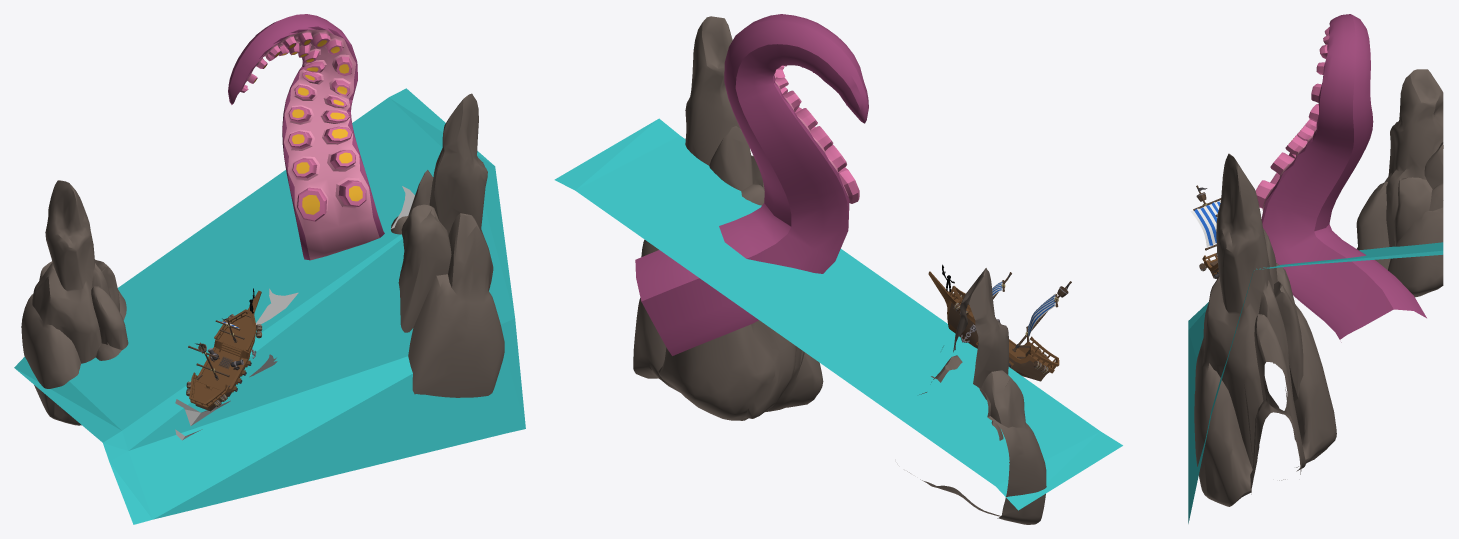
File: Sea Monster Scene.glb
The picture shows the model from 3 angles, left to right: view 1: azimuth 30°, elevation 25°; view 2: azimuth 150°, elevation 25°; view 3: azimuth 270°, elevation 25°; orthographic projection. The views are drawn at different scales.
Parts seen in each view (by area): view 1: Sea monster Scene; view 2: Sea monster Scene; view 3: Sea monster Scene.
Boxes of the visible parts, left/top/right/bottom form: Sea monster Scene: left=14, top=14, right=525, bottom=524; Sea monster Scene: left=554, top=14, right=1122, bottom=524; Sea monster Scene: left=1188, top=14, right=1443, bottom=523.
Size of the model in its own units: 2.75 by 2.63 by 1.45.
Materials: 2 (2 with a texture image).
